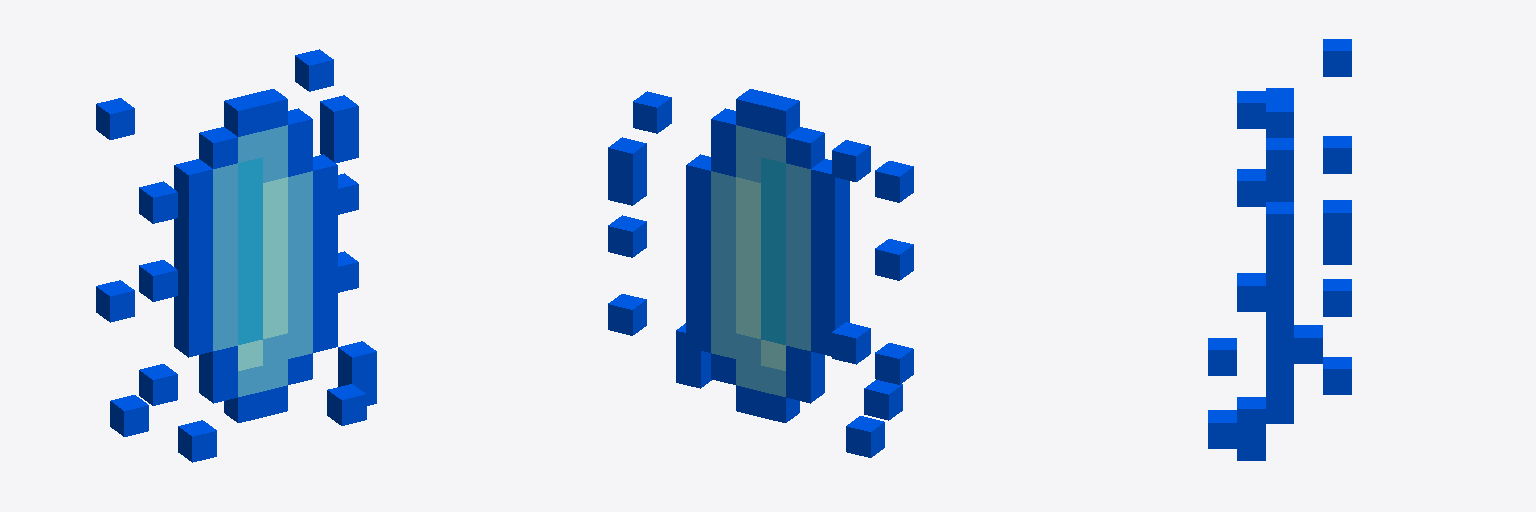
3 renders of one model, left to right at view 1: azimuth 30°, elevation 25°; view 2: azimuth 150°, elevation 25°; view 3: azimuth 270°, elevation 25°, orthographic.
Visible parts, largest first — view 1: object 1; view 2: object 1; view 3: object 1.
Boxes of the visible parts, x1=… form: object 1: x1=96, y1=49, x2=376, y2=462; object 1: x1=608, y1=89, x2=913, y2=457; object 1: x1=1208, y1=39, x2=1351, y2=460.
Size of the model in its own units: 1 by 1.2 by 0.5.
1 materials, 1 textured.